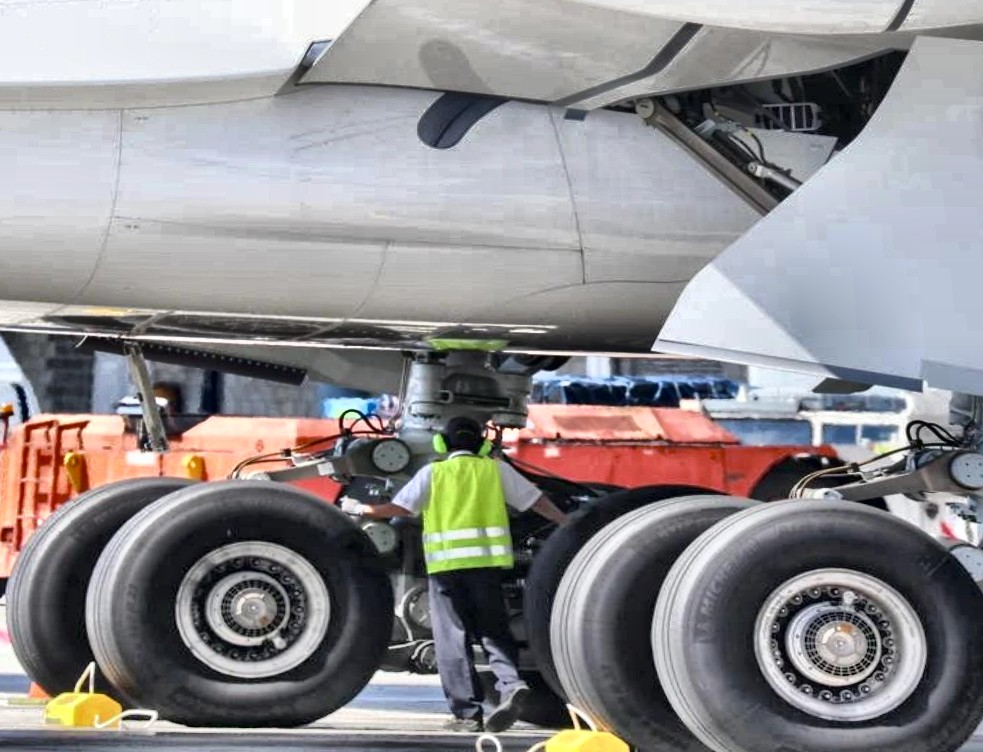chock: (41, 690, 128, 733), (540, 720, 635, 752)
wheel: (630, 492, 983, 752), (79, 474, 397, 727), (538, 489, 808, 752), (0, 473, 211, 710), (745, 454, 867, 508)
